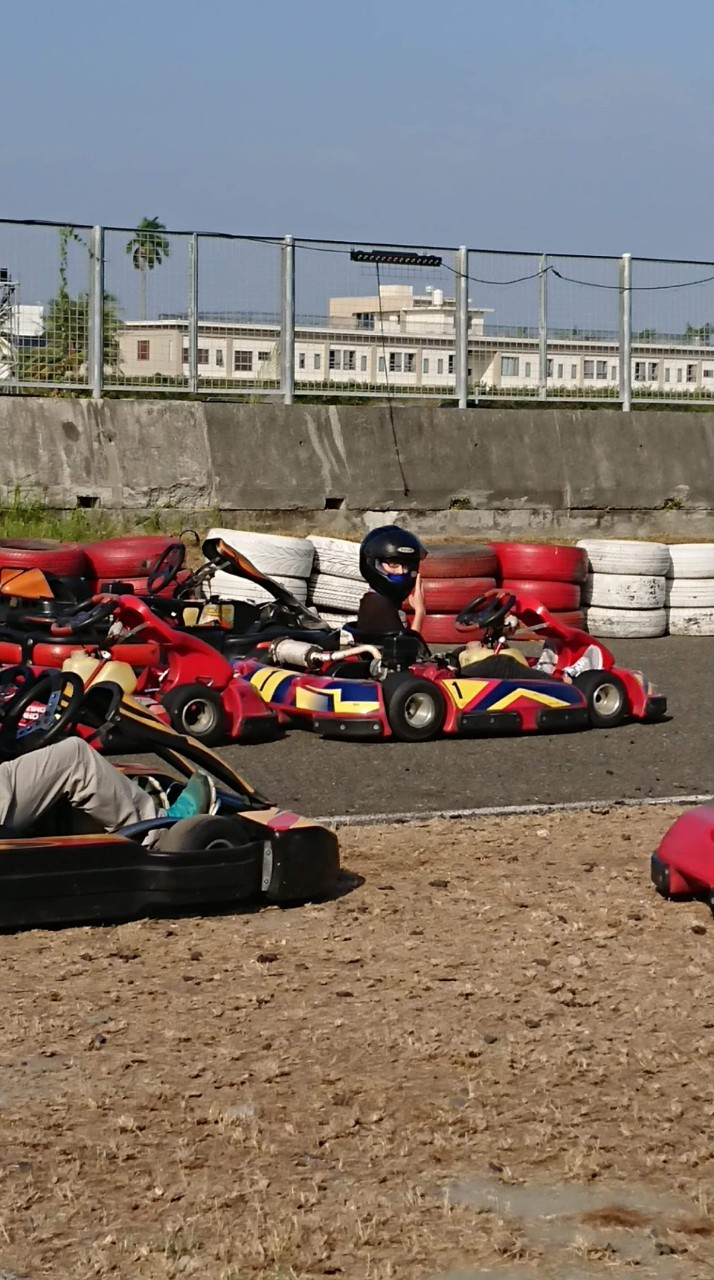people: (343, 519, 433, 678)
